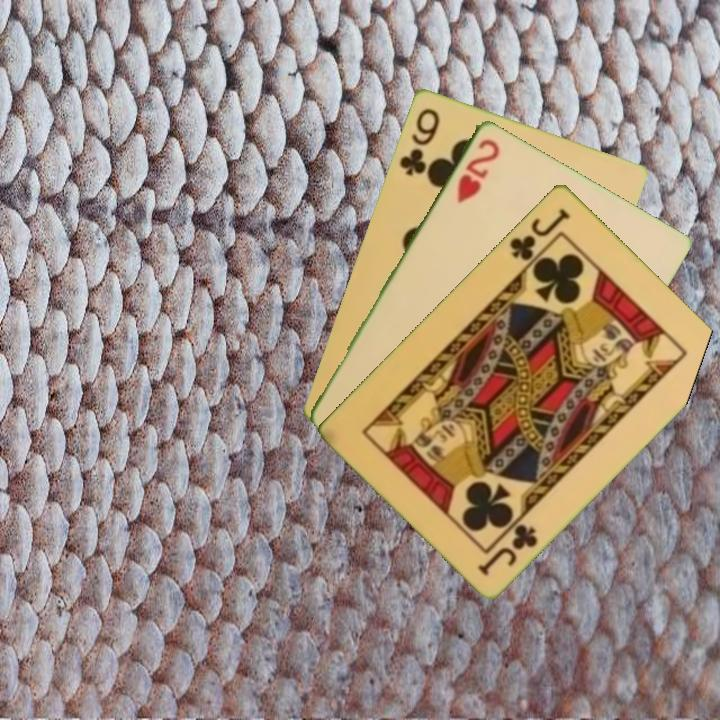2h: (453, 134, 503, 206)
9c: (395, 103, 443, 178)
Jc: (505, 204, 573, 264), (474, 519, 541, 579)
